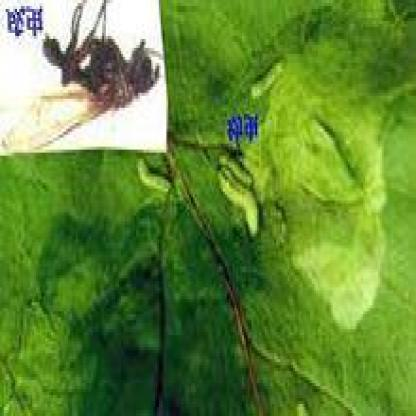whorl-maggot: (214, 152, 264, 240), (244, 54, 293, 102), (133, 154, 174, 200)
